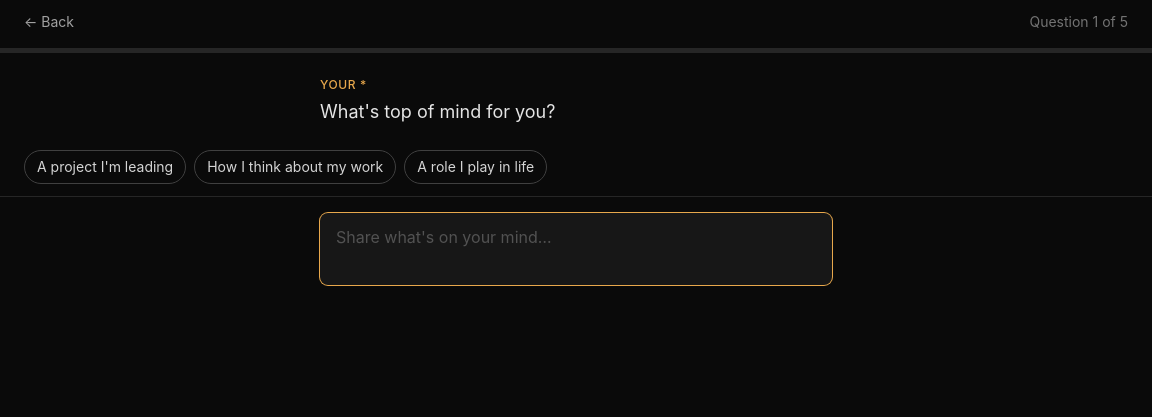
Test case: InterviewChat › falls back gracefully when generate-turn fails
Check: the text "What's top of mind for you?" is shown, box [320, 101, 556, 122]
In the text box with placeholder "Share what's on your mind…": (576, 249) [320, 213, 832, 285], type "Test answer"
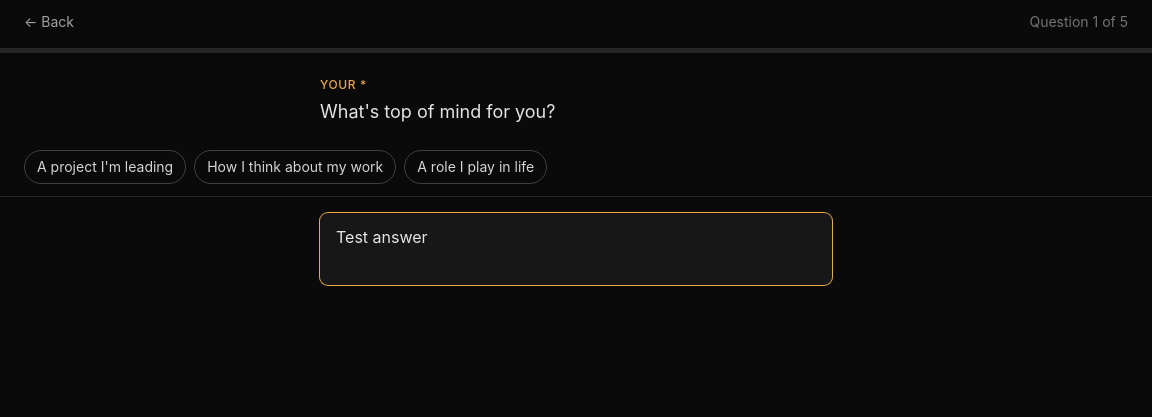
Press Enter in the text box with placeholder "Share what's on your mind…", box [320, 213, 832, 285]
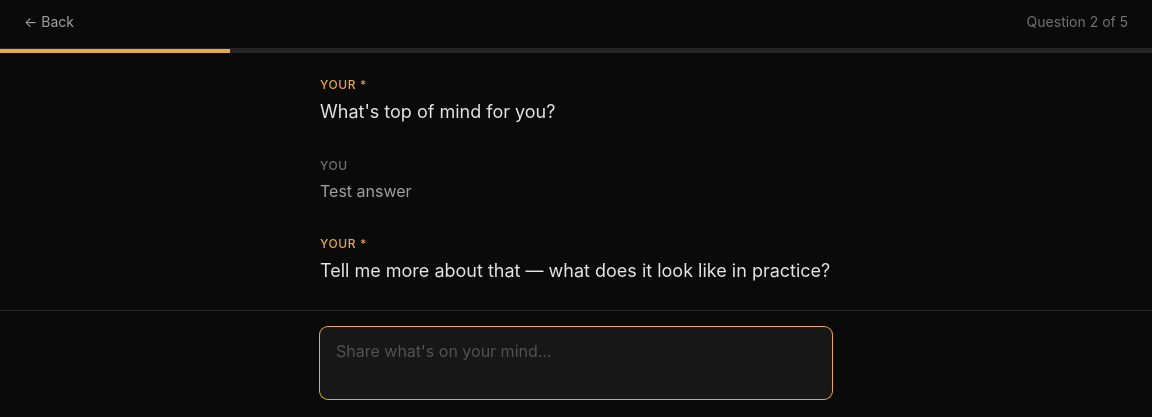
Check: the text "Tell me more about that — what does it look like in practice?" is shown, box [320, 256, 832, 286]
